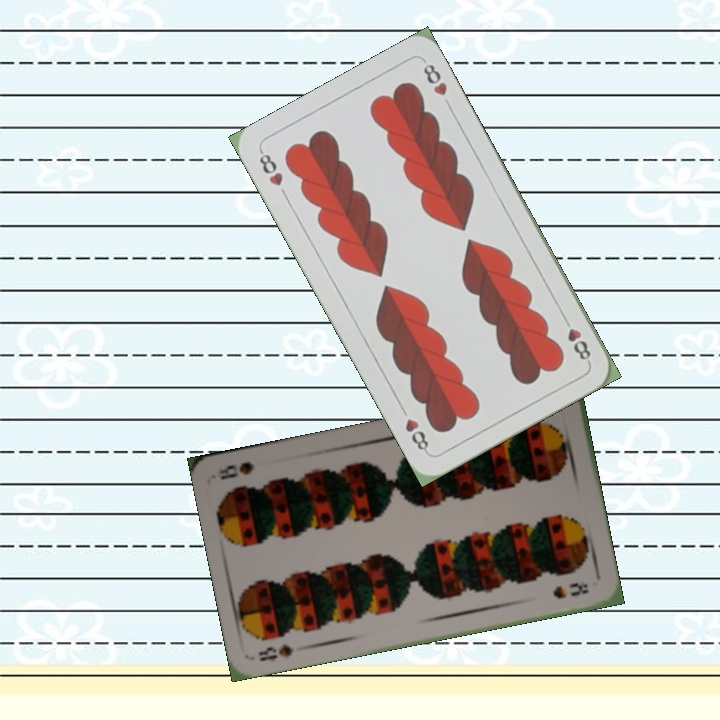H8: (558, 311, 594, 365), (255, 146, 286, 189)
S8: (254, 640, 296, 664)
